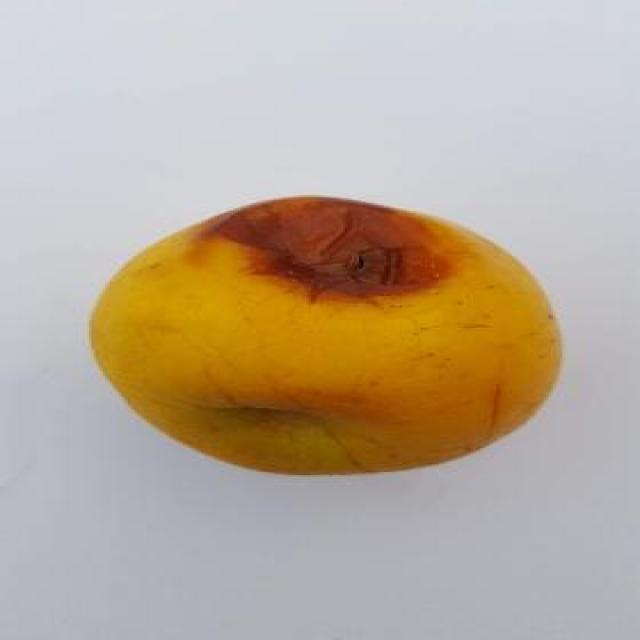Rotten: (80, 187, 571, 482)
